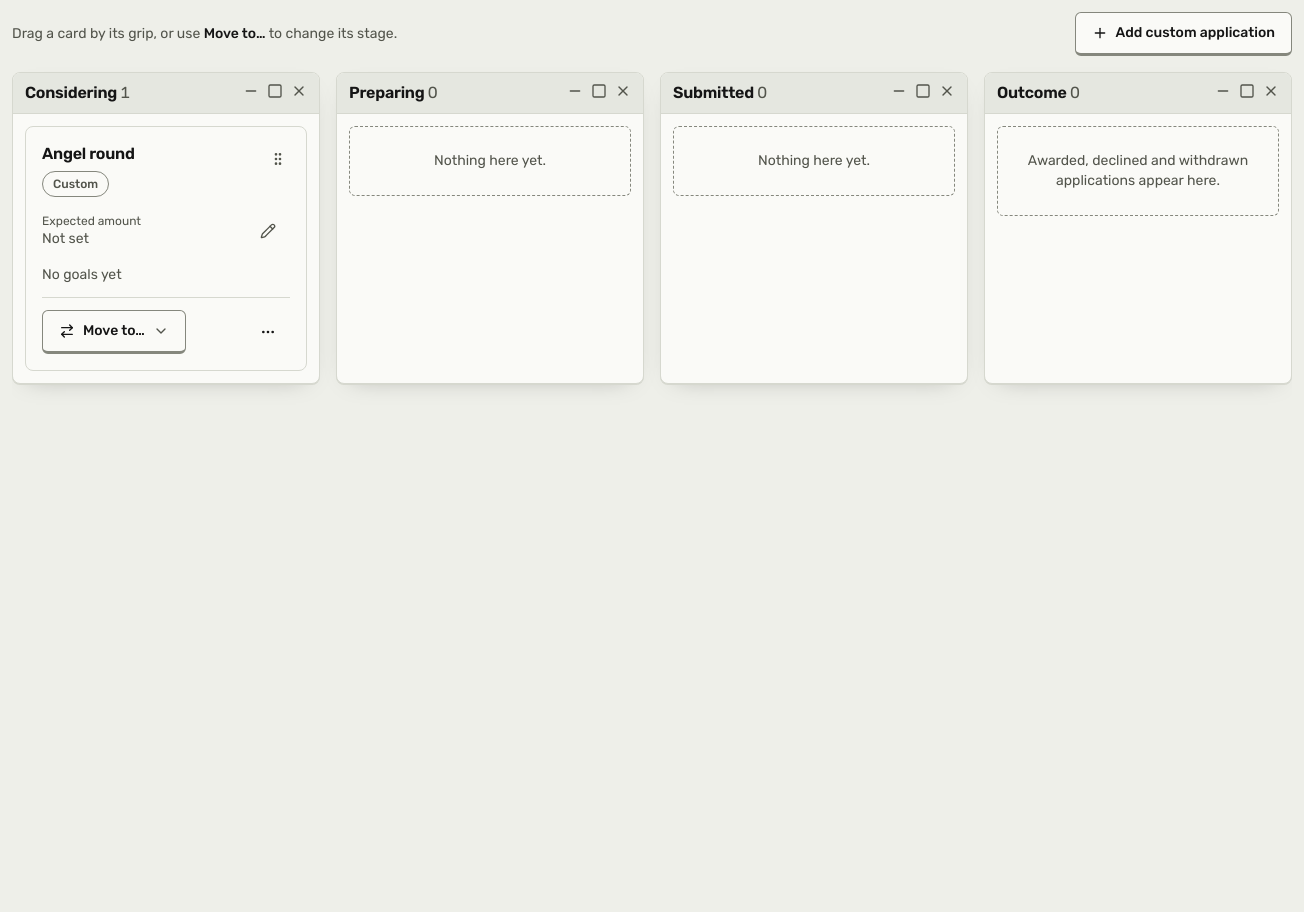
Test case: PipelineBoard milestone cheers › cheers a submission with a toast and a burst
Click the button with aria-label "Move Angel round to…" at [114, 332], box [42,310,186,354]
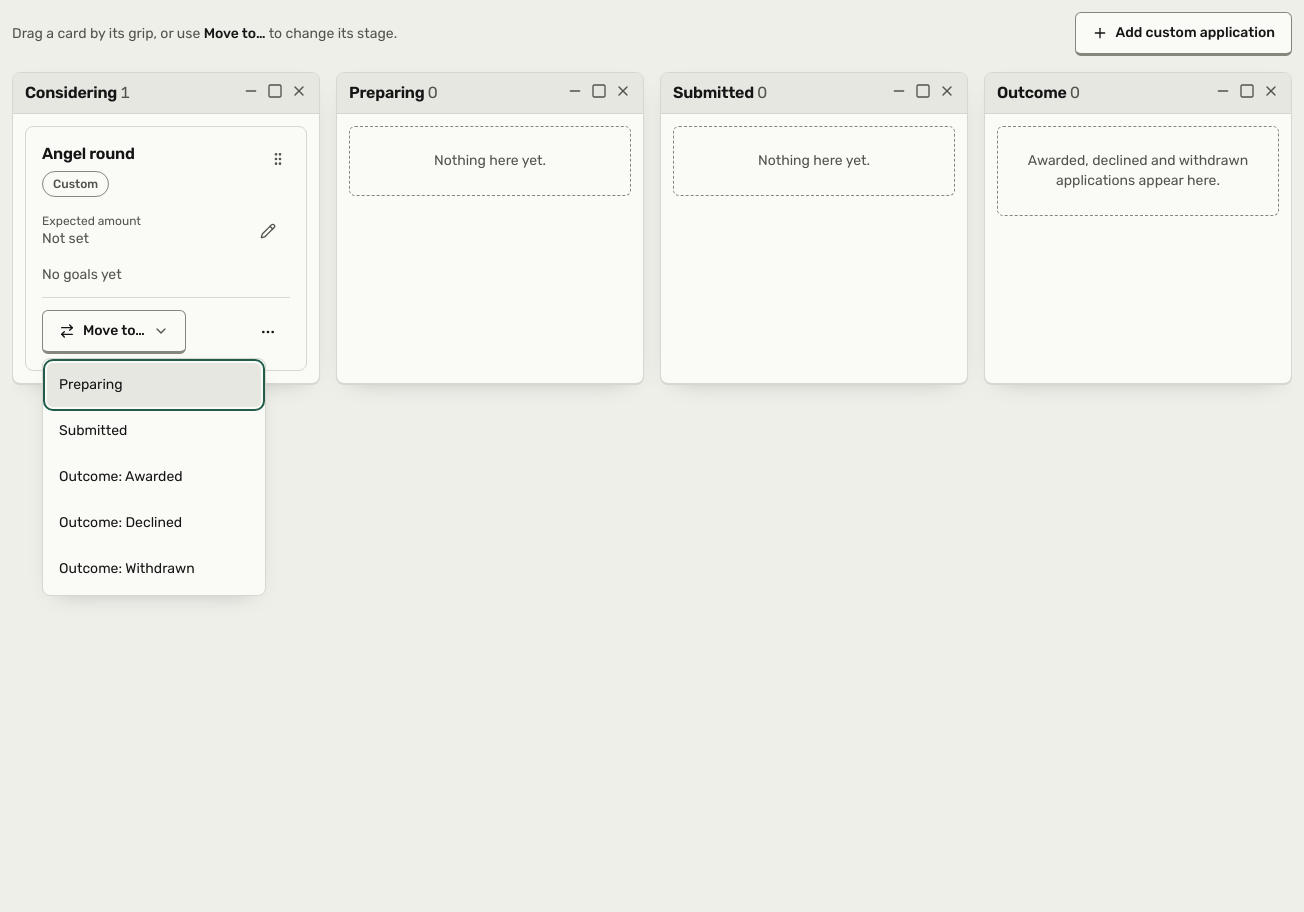
Click the menu item "Submitted" at [154, 431], box [47,409,261,453]
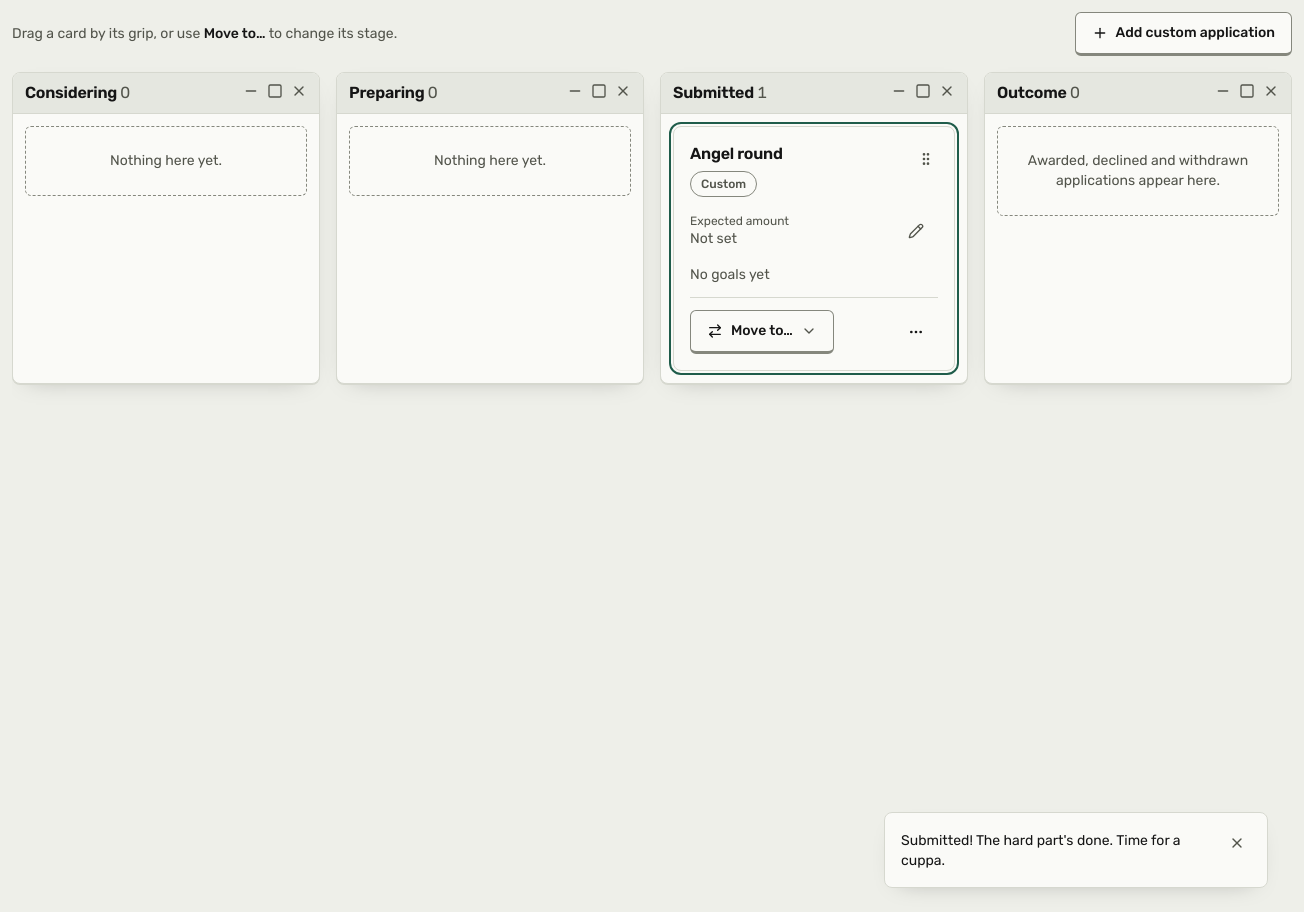
Expected: the text "Submitted! The hard part's done. Time for a cuppa." is shown, [901,831,1211,871]
